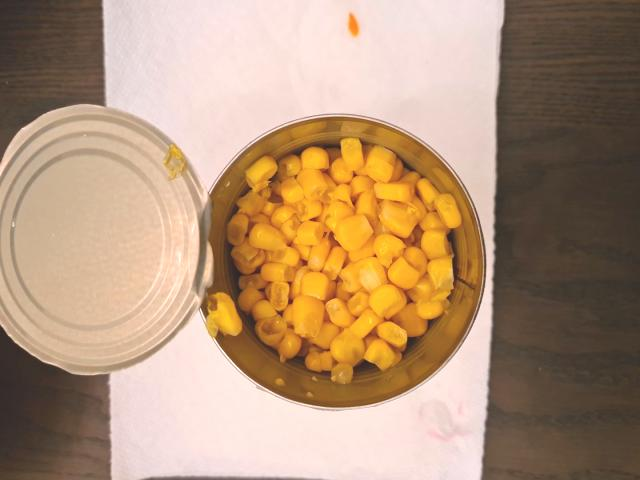kichen waste: (228, 138, 456, 366)
